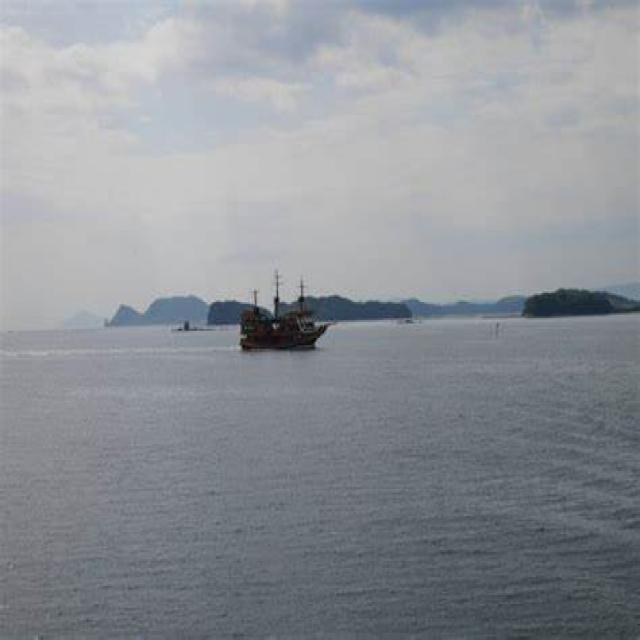fishing boat: (231, 277, 332, 357)
